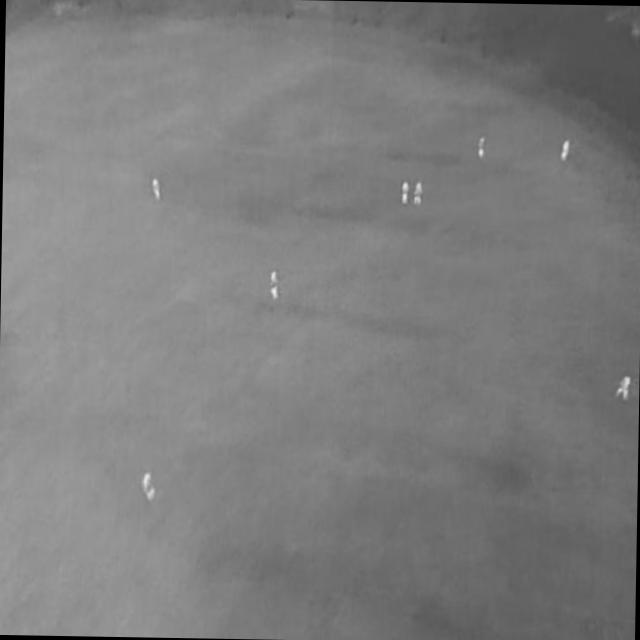person: (141, 471, 158, 504), (615, 373, 631, 402), (269, 270, 280, 300), (412, 182, 422, 206), (152, 178, 161, 202), (478, 137, 486, 161), (401, 180, 408, 206), (561, 141, 569, 162)
